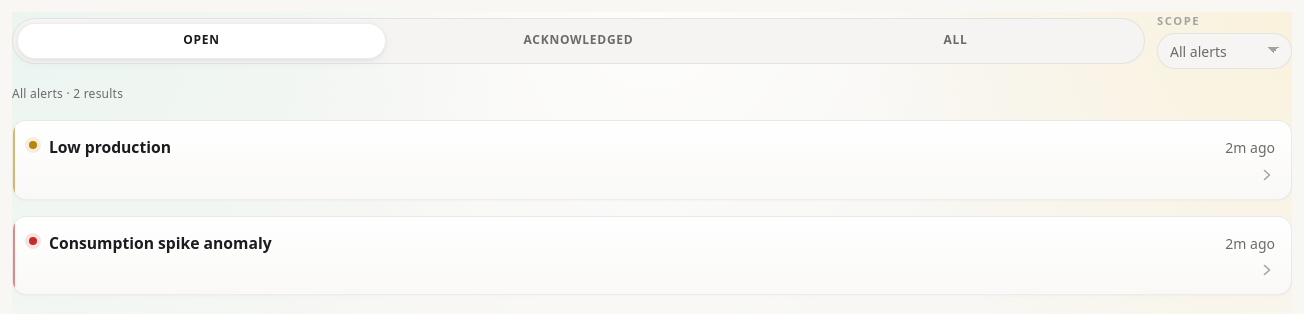
Scenario: AlertCenter › filters by kind with the compact scope control
The width and height of the screenshot is (1304, 314).
Select "Consumption" in the dropdown named "Filter alerts by type". click: (1224,51)
box: 1157,33 -> 1292,69
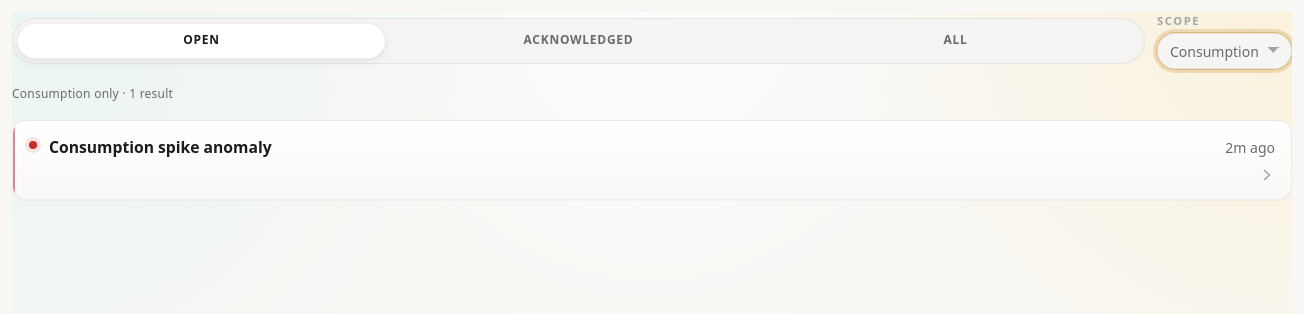
Expected: the element with test id "alert-card-202" is shown, 12,120 -> 1292,200
Expected: the text "Consumption only · 1 result" is shown, 12,85 -> 173,102
Expected: the element with test id "alert-card-201" is gone
